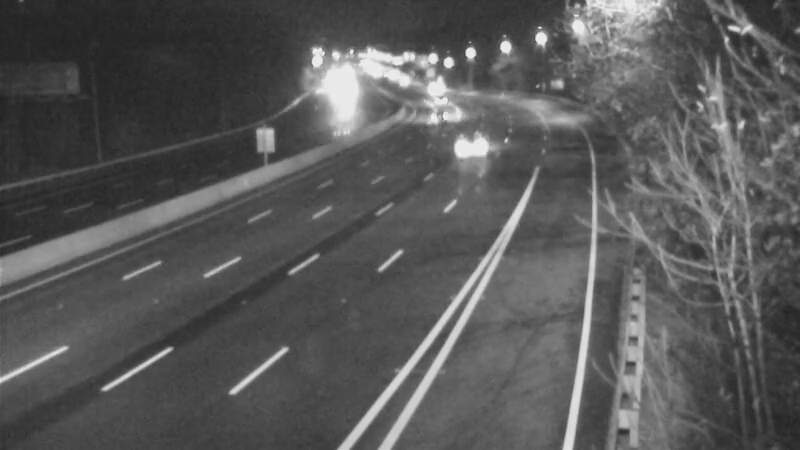vehicle: (411, 59, 461, 109), (412, 77, 462, 127), (412, 96, 462, 146), (431, 111, 481, 161), (311, 74, 361, 124)
